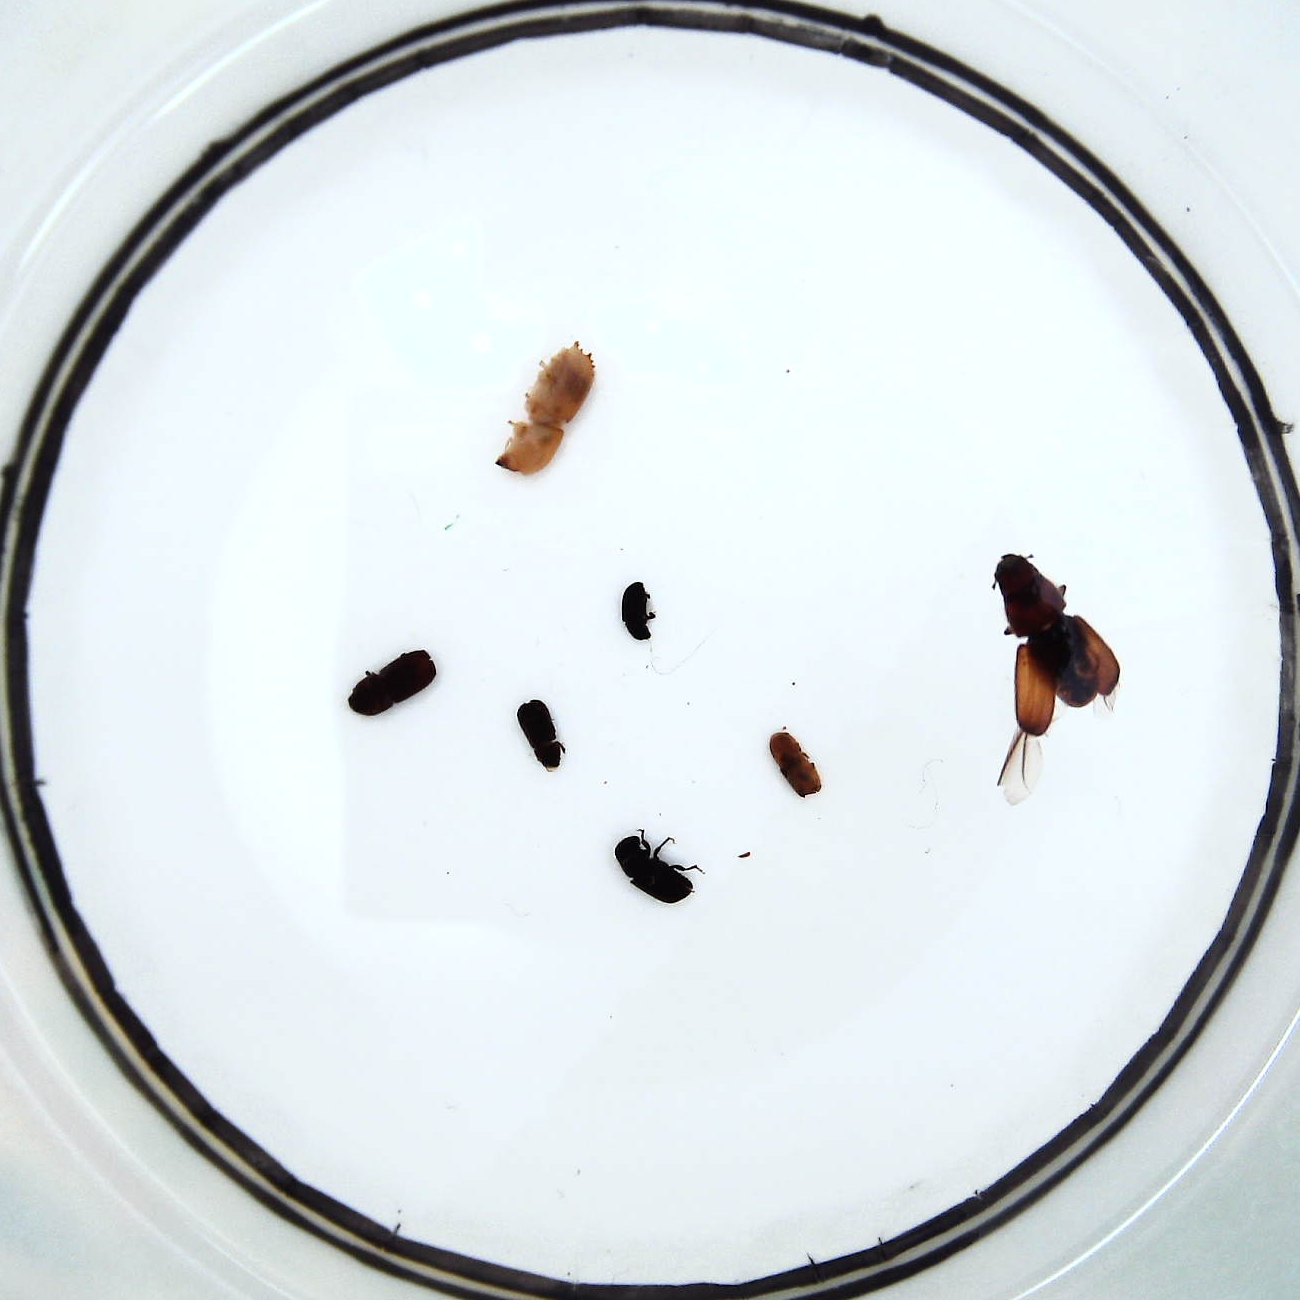Boerner: (493, 345, 594, 477)
Leconte: (990, 551, 1123, 736)
Linnaeus: (343, 651, 442, 721)
acuminatus: (769, 727, 821, 799)
armandi: (614, 835, 693, 906)
coleoptera: (514, 699, 563, 771), (621, 575, 655, 645)
